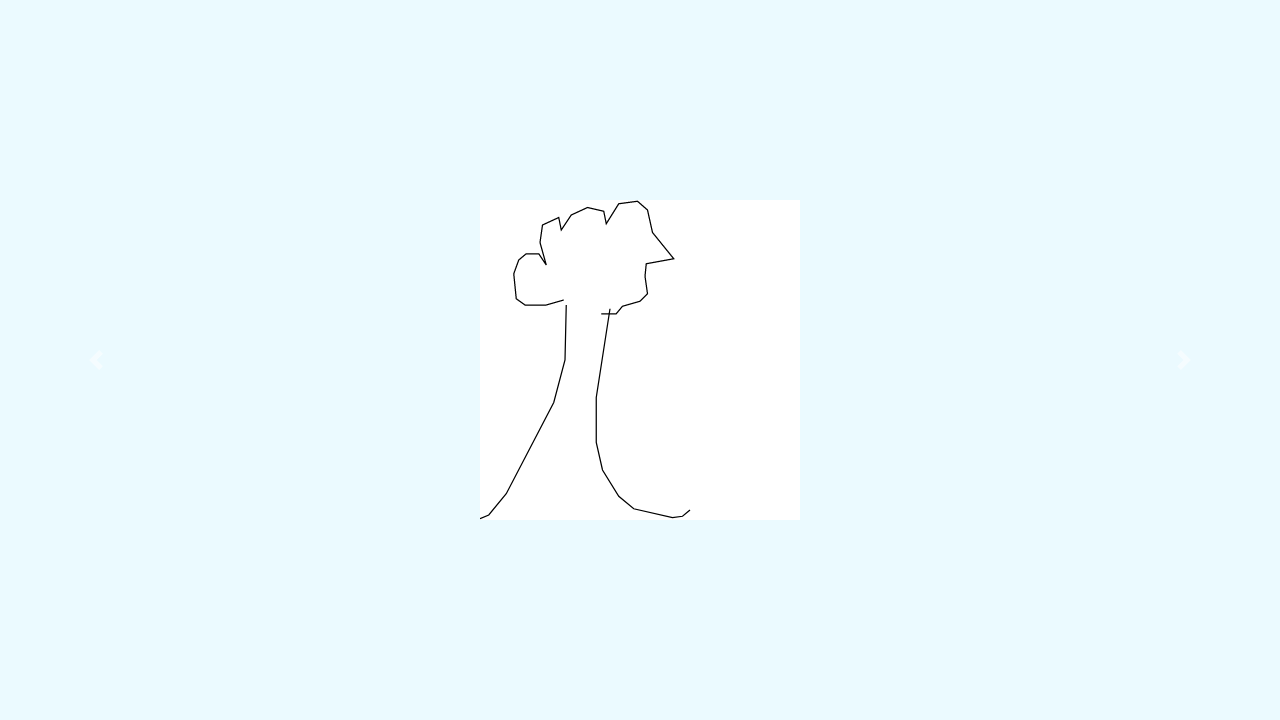tree: (467, 193, 700, 531)
